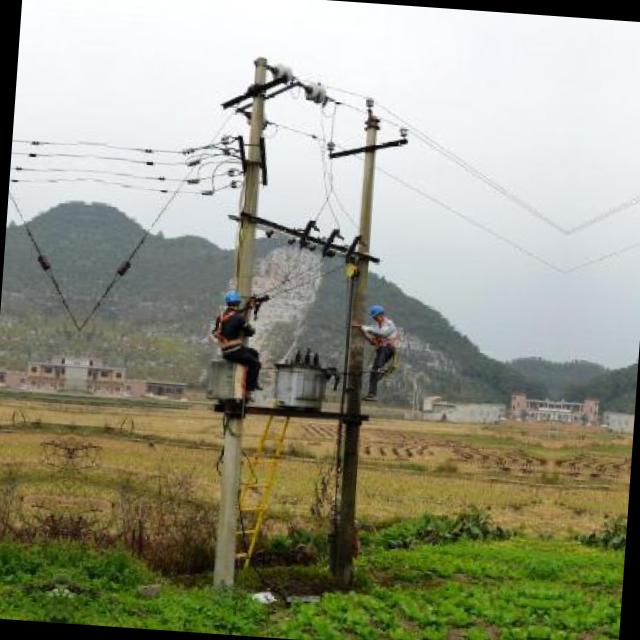helmet: (364, 300, 394, 326), (218, 286, 244, 310)
